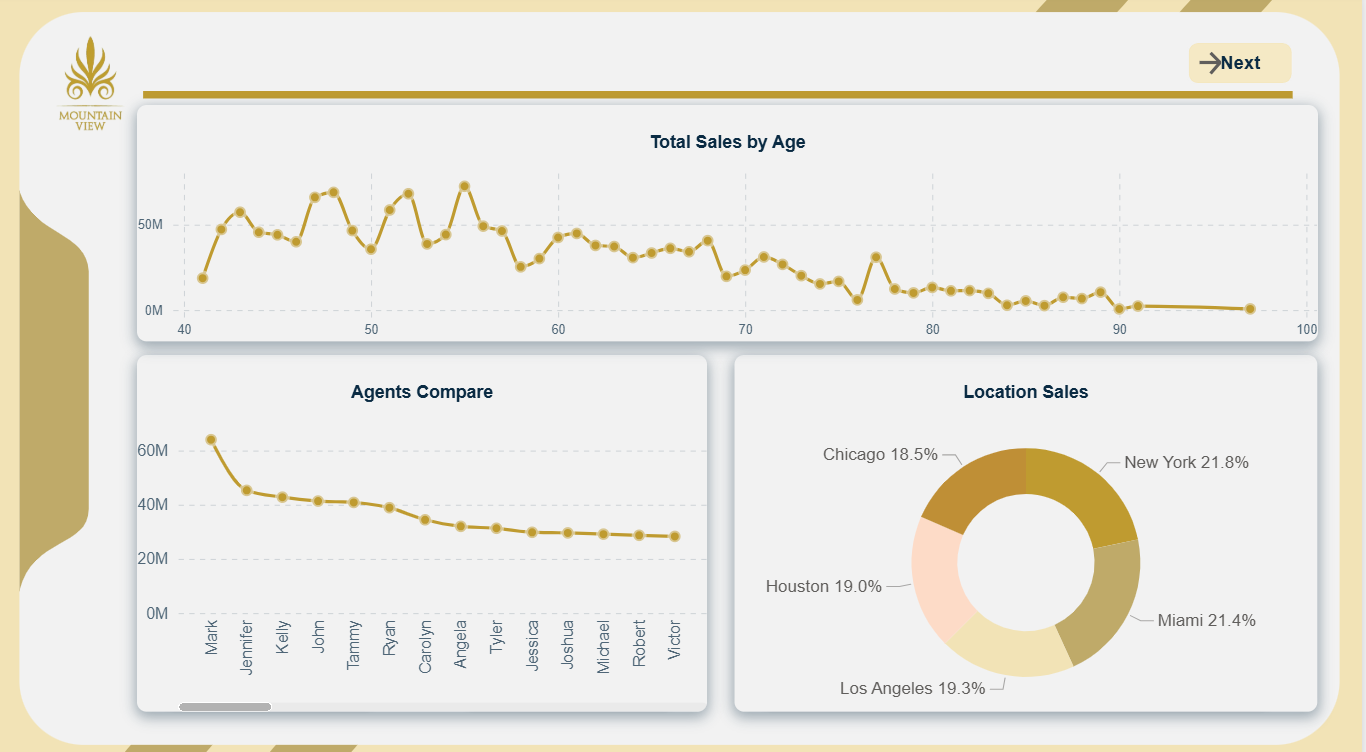

The dashboard page shown, as its layout file describes it:
{"tool":"powerbi","page":{"name":"Page 4","canvas":[1280,720],"ordinal":4},"visuals":[{"type":"image","box":[0,11.8,173,142.8],"z":0},{"type":"actionButton","box":[1115.2,43.2,99.6,40.6],"z":1000},{"type":"lineChart","title":"Agents Compare","fields":{"Y":["Key Measure.Total Sales"],"Category":["Agents.FirstName"]},"box":[131,338.1,534.6,334.2],"z":2000},{"type":"donutChart","title":"Location Sales","fields":{"Category":["Properties.Location"],"Y":["Key Measure.Total Sales"]},"box":[691.9,338.1,546.4,334.2],"z":3000},{"type":"lineChart","fields":{"Y":["Key Measure.Total Sales"],"Category":["Clients.Age"]},"box":[131,103.5,1107.3,221.5],"z":4000}]}

Visuals, with their boxes in screenshot pixels (x1, y1, x2, y2), scaled from the page's 1280x720 canvas onto the 1366x752 screenshot:
image: 0/12/185/161
actionButton: 1190/45/1296/88
"Agents Compare" lineChart: 140/353/710/702
"Location Sales" donutChart: 738/353/1321/702
lineChart - Key Measure.Total Sales x Clients.Age: 140/108/1321/339
